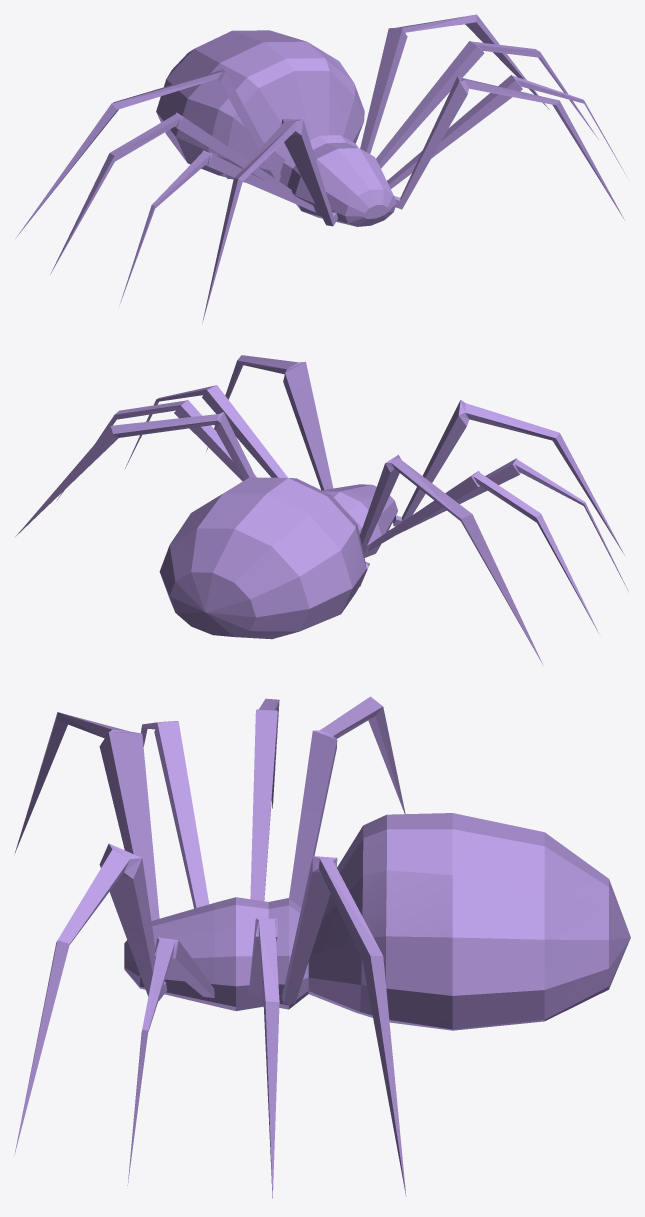
File: spider.obj
3 renders of one model, top to bottom at view 1: azimuth 30°, elevation 25°; view 2: azimuth 150°, elevation 25°; view 3: azimuth 270°, elevation 25°, orthographic. The views are drawn at different scales.
Visible parts, largest first — view 1: Sphere004; view 2: Sphere004; view 3: Sphere004.
Boxes of the visible parts, bbox=[...] form: Sphere004: bbox=[15, 14, 627, 324]; Sphere004: bbox=[15, 355, 628, 665]; Sphere004: bbox=[14, 696, 630, 1198].
Size of the model in its own units: 11.84 by 3.08 by 7.88.
